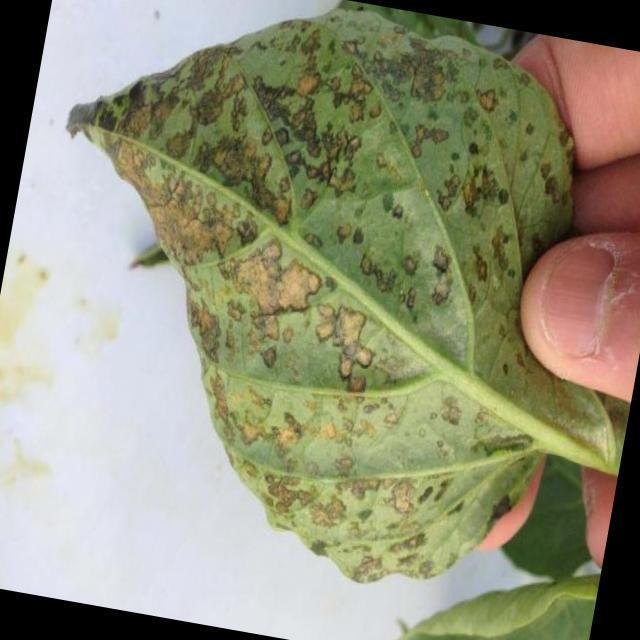Bacterial Spot: (194, 8, 515, 454)
